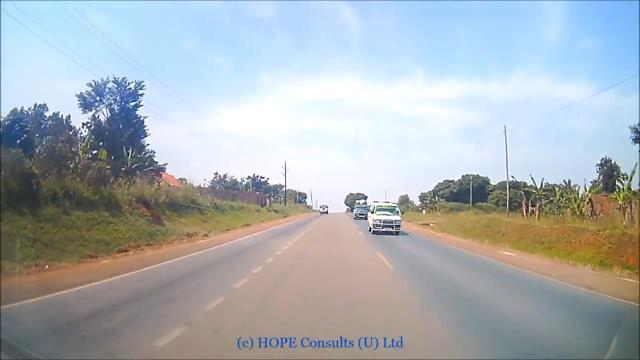car: (354, 201, 370, 219), (319, 205, 329, 214)
van: (369, 197, 403, 238)
